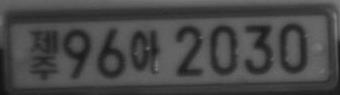0: (278, 22, 308, 74), (209, 24, 238, 76)
2: (174, 24, 204, 77)
3: (244, 23, 274, 75)
6: (96, 27, 126, 79)
9: (62, 28, 92, 79)
아: (129, 29, 160, 74)
제주_V: (28, 29, 58, 80)
